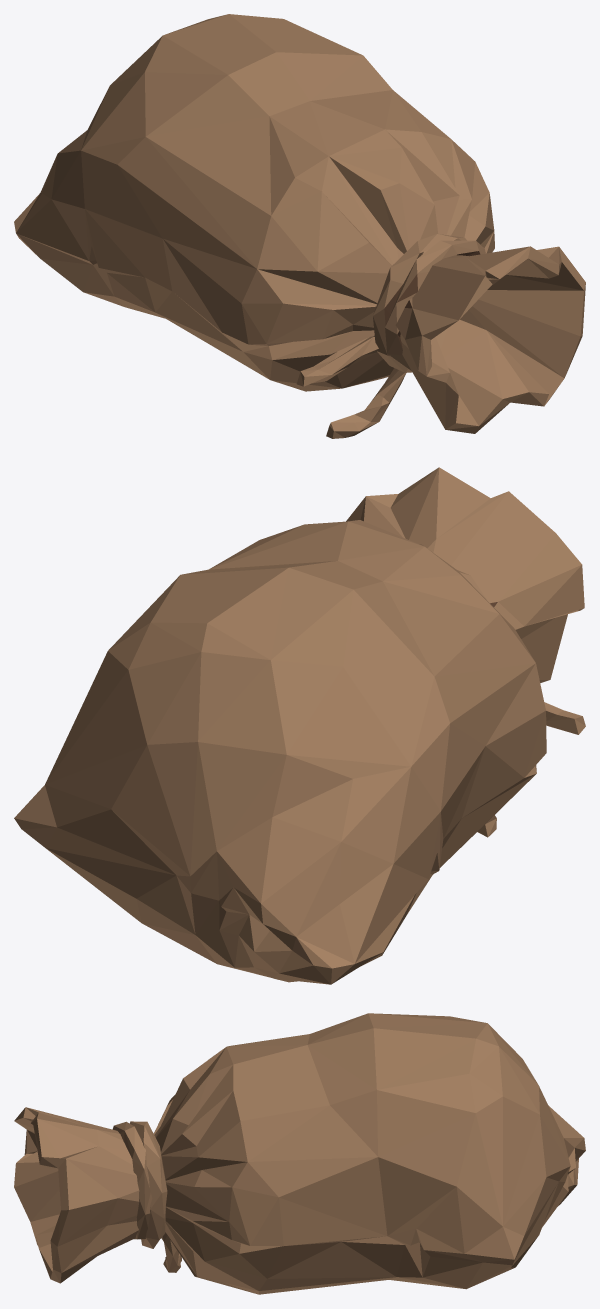
The model's file is Sack.glb.
3 renders of one model, top to bottom at view 1: azimuth 30°, elevation 25°; view 2: azimuth 150°, elevation 25°; view 3: azimuth 270°, elevation 25°, orthographic. The views are drawn at different scales.
Visible parts, largest first — view 1: Sack; view 2: Sack; view 3: Sack.
Boxes of the visible parts, bbox=[...] form: Sack: bbox=[14, 14, 585, 438]; Sack: bbox=[14, 467, 585, 984]; Sack: bbox=[14, 1013, 585, 1294].
Size of the model in its own units: 0.3877 by 0.3489 by 0.7.
